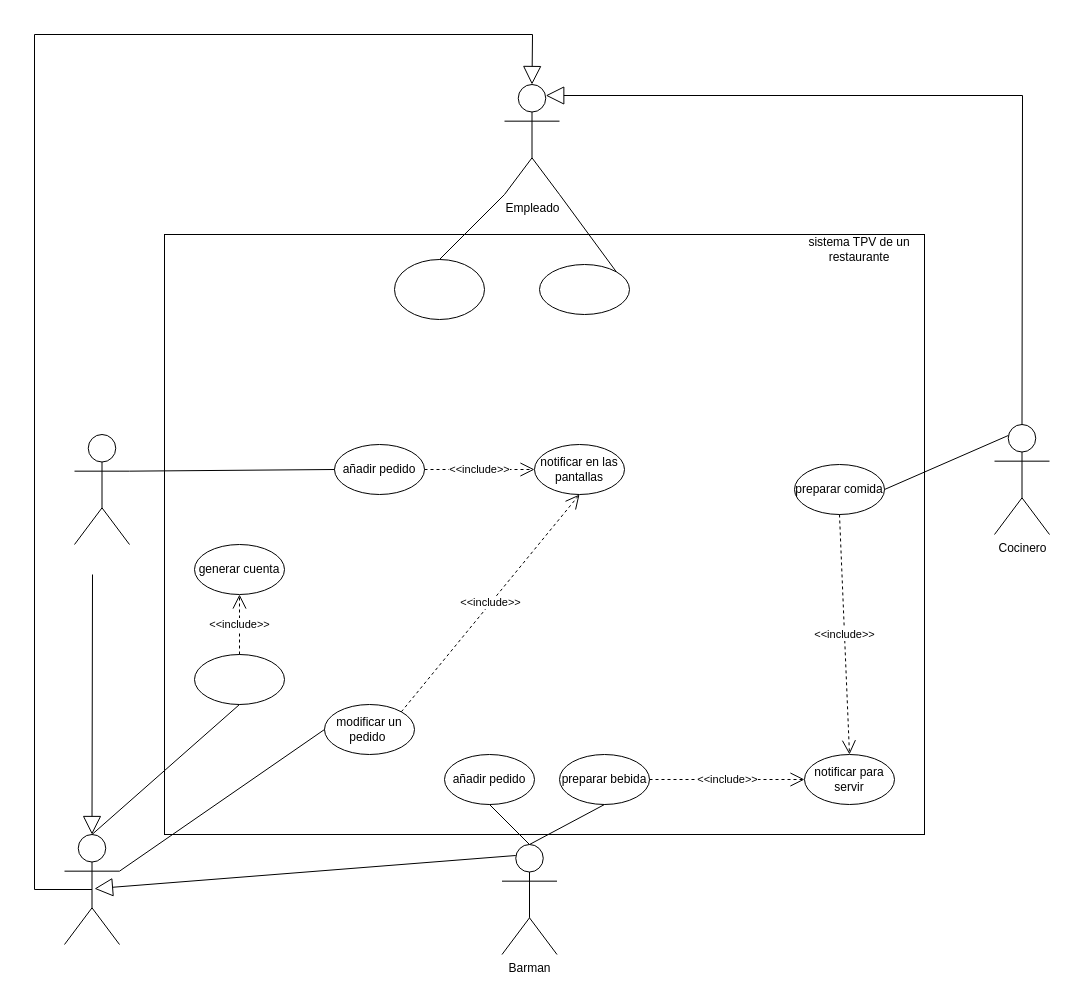
Image size: 1067x993. Some labels were removed from this diagram. The centre of each missing label's shape, as x and y in pixels:
"Camarero" goes at point 102,489.
"cerrar un pedido" goes at point 239,679.
"consultar pedidos" goes at point 584,289.
"Equipo de sala" goes at point 92,889.
"iniciar sesion" goes at point 439,289.
